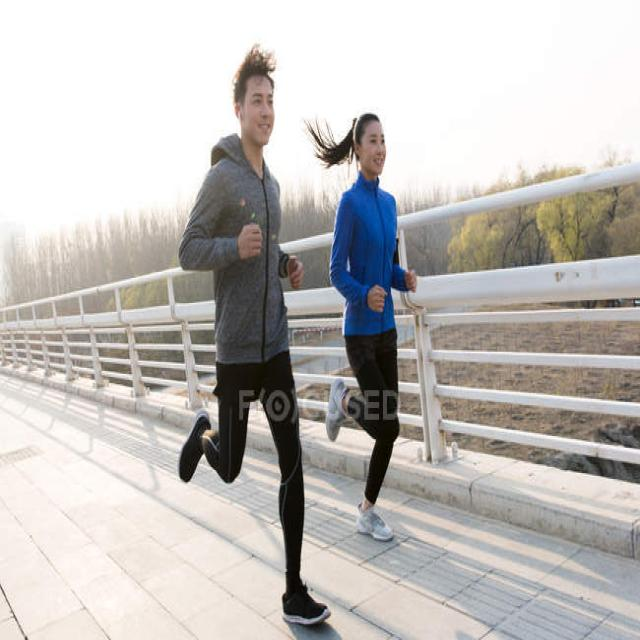Person: (178, 42, 330, 624), (303, 114, 418, 543)
